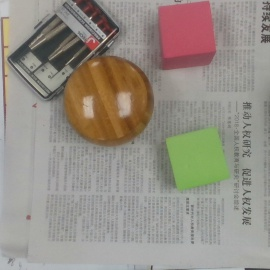chess: (63, 56, 154, 147)
